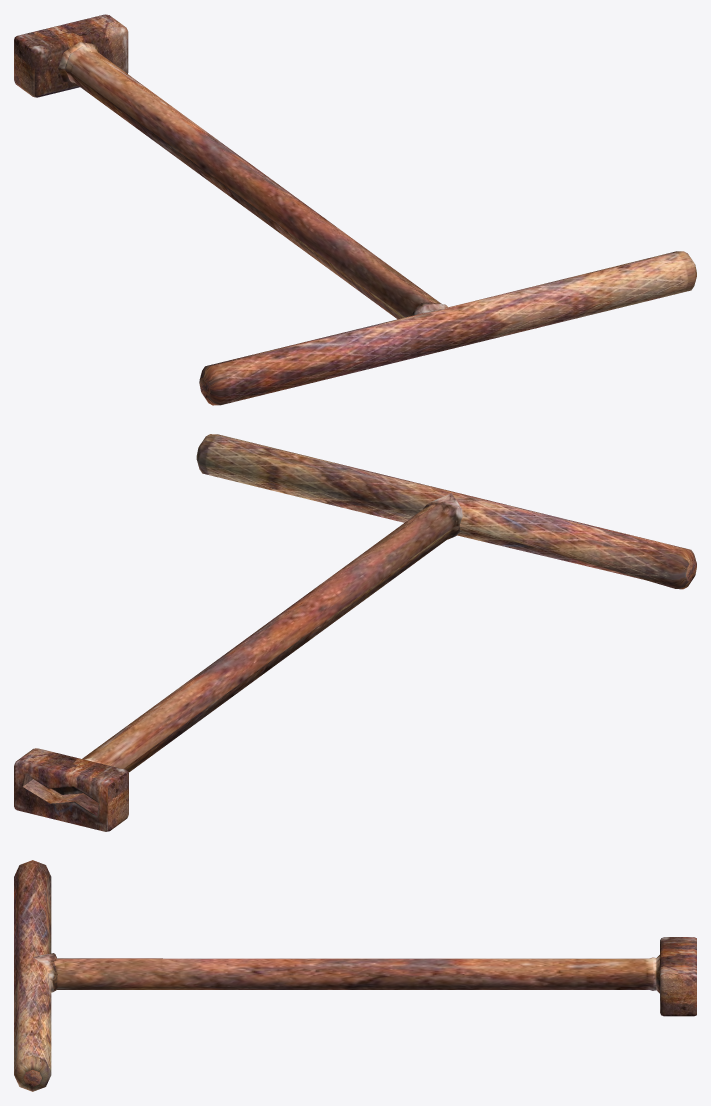
Rendered from item_venttool.dae.
The picture shows the model from 3 angles, top to bottom: view 1: azimuth 30°, elevation 25°; view 2: azimuth 150°, elevation 25°; view 3: azimuth 270°, elevation 25°; orthographic projection. The views are drawn at different scales.
Parts seen in each view (by area): view 1: venttool; view 2: venttool; view 3: venttool.
Boxes of the visible parts, x1=… form: venttool: x1=14, y1=14, x2=696, y2=405; venttool: x1=14, y1=434, x2=696, y2=831; venttool: x1=14, y1=860, x2=696, y2=1091.
Size of what is drawn, in the model's own units: 0.3753 by 0.0362 by 0.5296.
